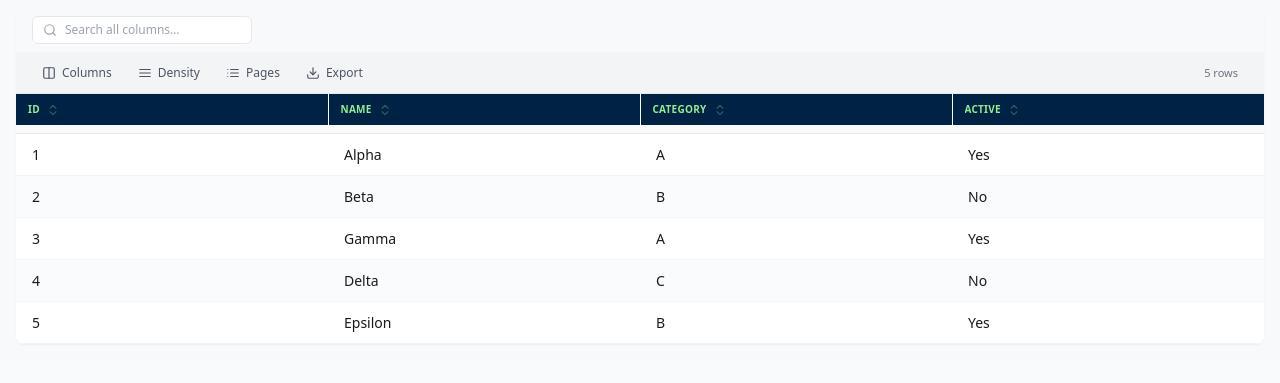
Test case: DataTable › shows 0-0 of 0 when all data is filtered out
Type "zzzzzzz_no_match" into the field with placeholder "Search all columns…" at (153,30), box [65,22,241,38]
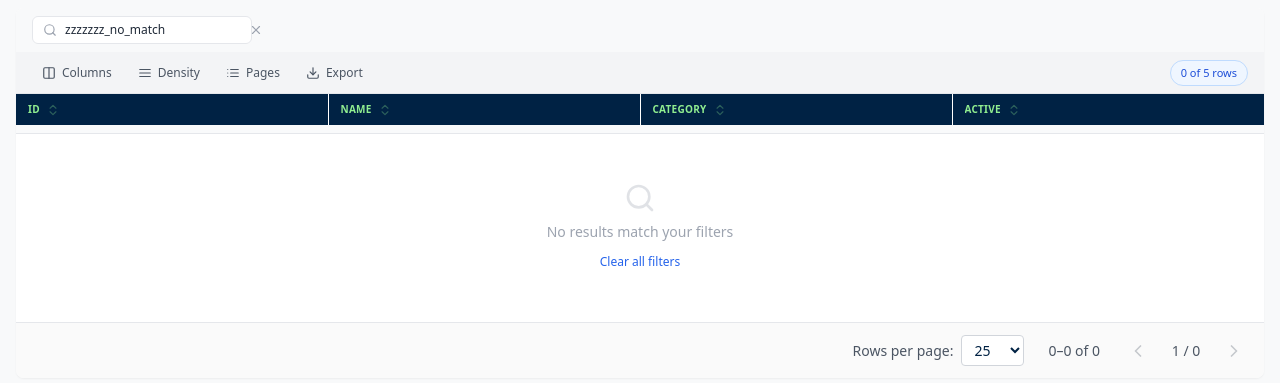
Now the text "0–0 of 0" is shown, box [1048,340,1100,360]
